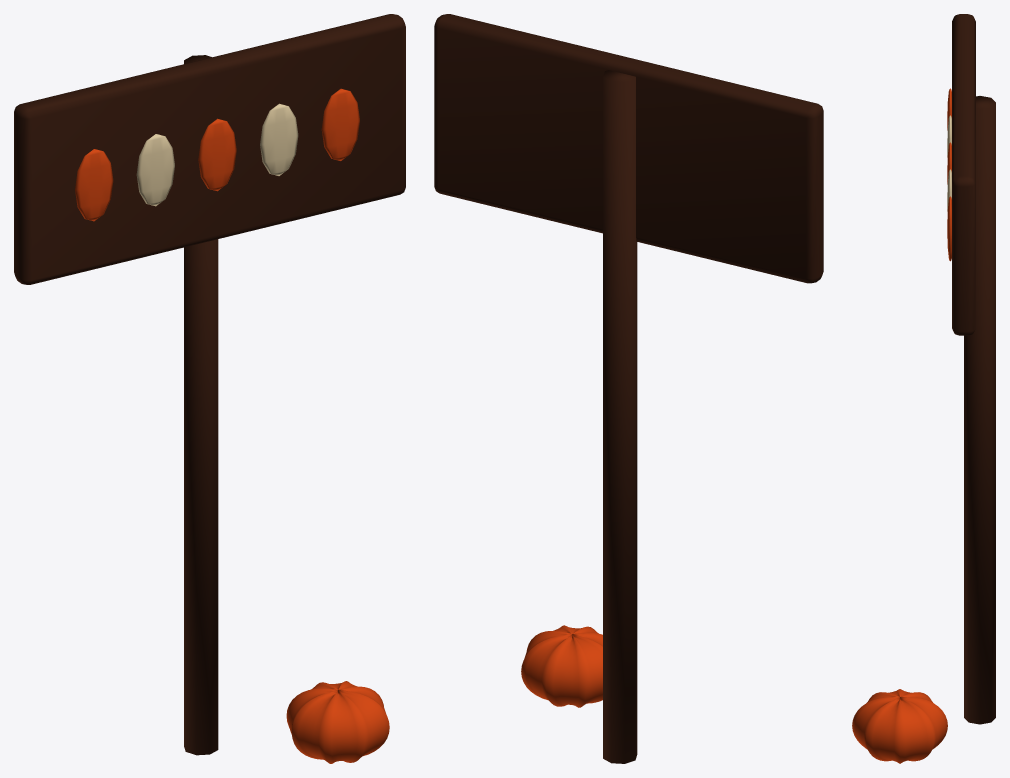
The model's file is welcome_sign.obj.
3 renders of one model, left to right at view 1: azimuth 30°, elevation 25°; view 2: azimuth 150°, elevation 25°; view 3: azimuth 270°, elevation 25°, orthographic. The views are drawn at different scales.
Visible parts, largest first — view 1: LH_welcome_sign; view 2: LH_welcome_sign; view 3: LH_welcome_sign.
Boxes of the visible parts, left/top/right/bottom form: LH_welcome_sign: left=14, top=14, right=405, bottom=763; LH_welcome_sign: left=434, top=14, right=823, bottom=763; LH_welcome_sign: left=852, top=14, right=995, bottom=763.
Size of the model in its own units: 0.5 by 0.86 by 0.18.
